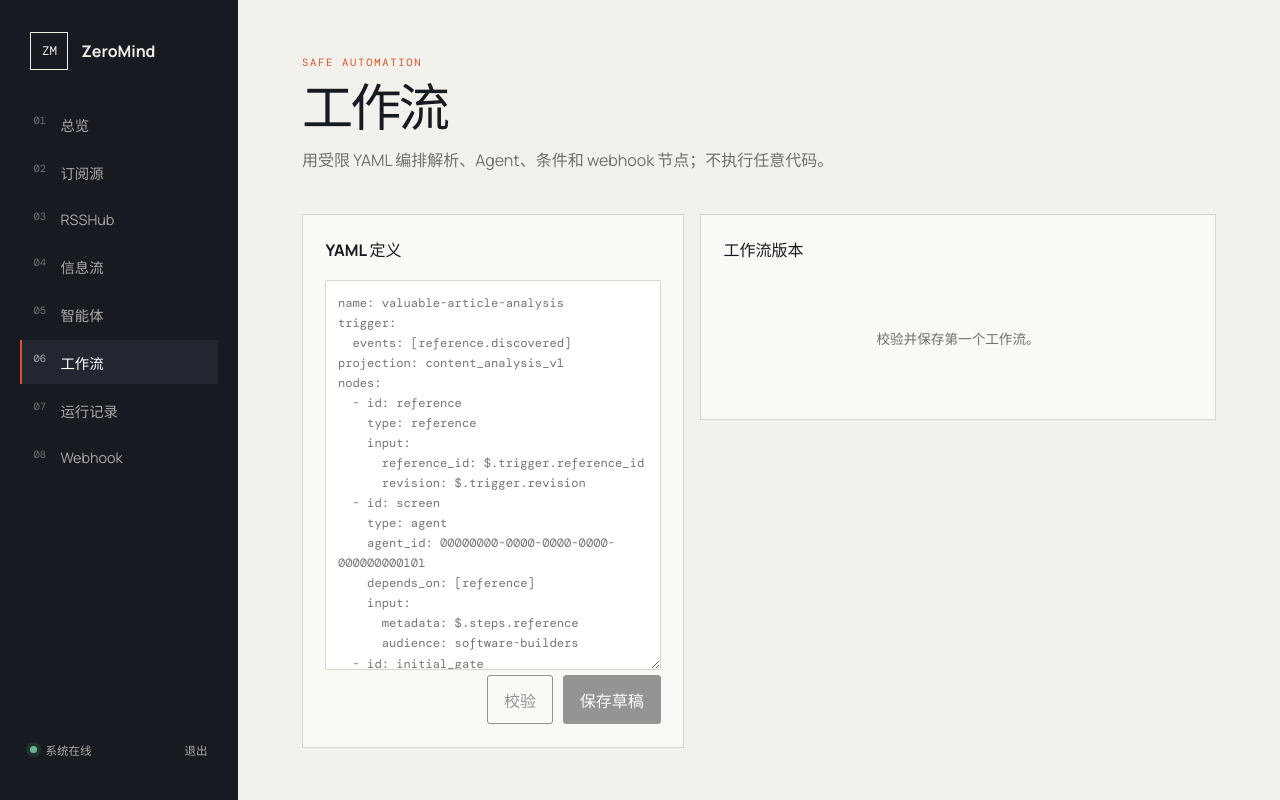
it: ZeroMind administration › shows workflow projection, terminal gates, and validation warnings
Type "name: valuable-article-analysis" into the text box named "YAML 定义".
click(493, 475); type("name: valuable-article-analysis")  # box [325,280,661,670]
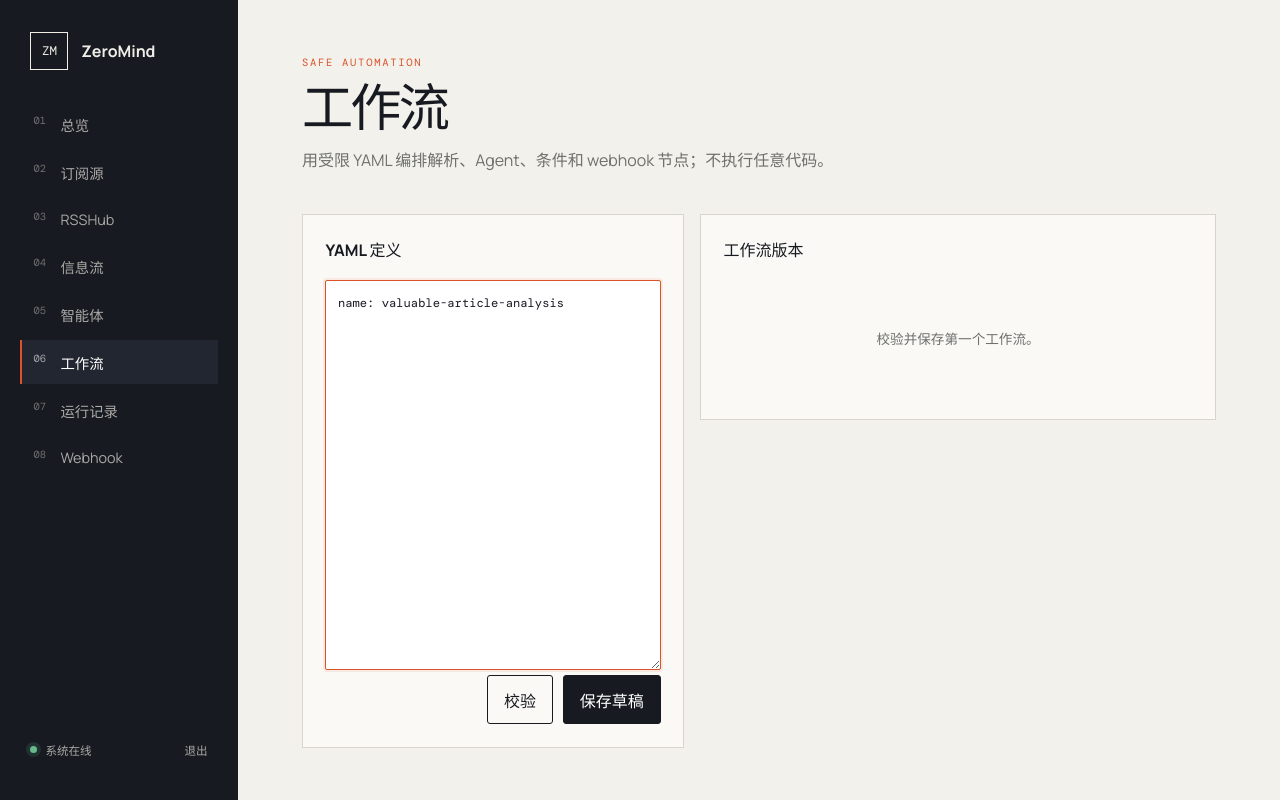
Click the button "校验".
click(520, 700)  # box [487,675,553,724]
(page scrolled)
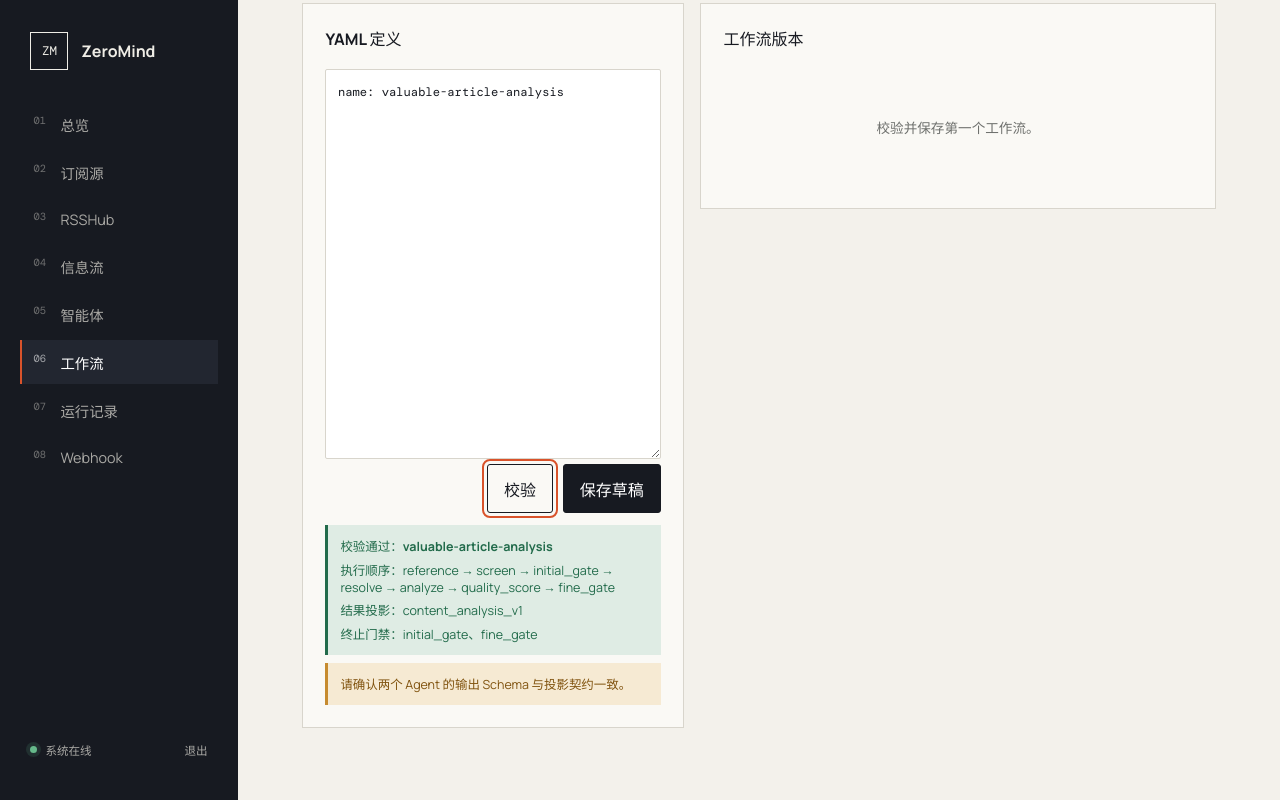
expect the text "结果投影：content_analysis_v1" is shown: met, box [340,602,523,619]
expect the text "终止门禁：initial_gate、fine_gate" is shown: met, box [340,626,538,643]
expect the text "请确认两个 Agent 的输出 Schema 与投影契约一致。" is shown: met, box [325,663,661,705]
